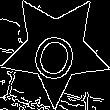O_N: (28, 18, 83, 81)
